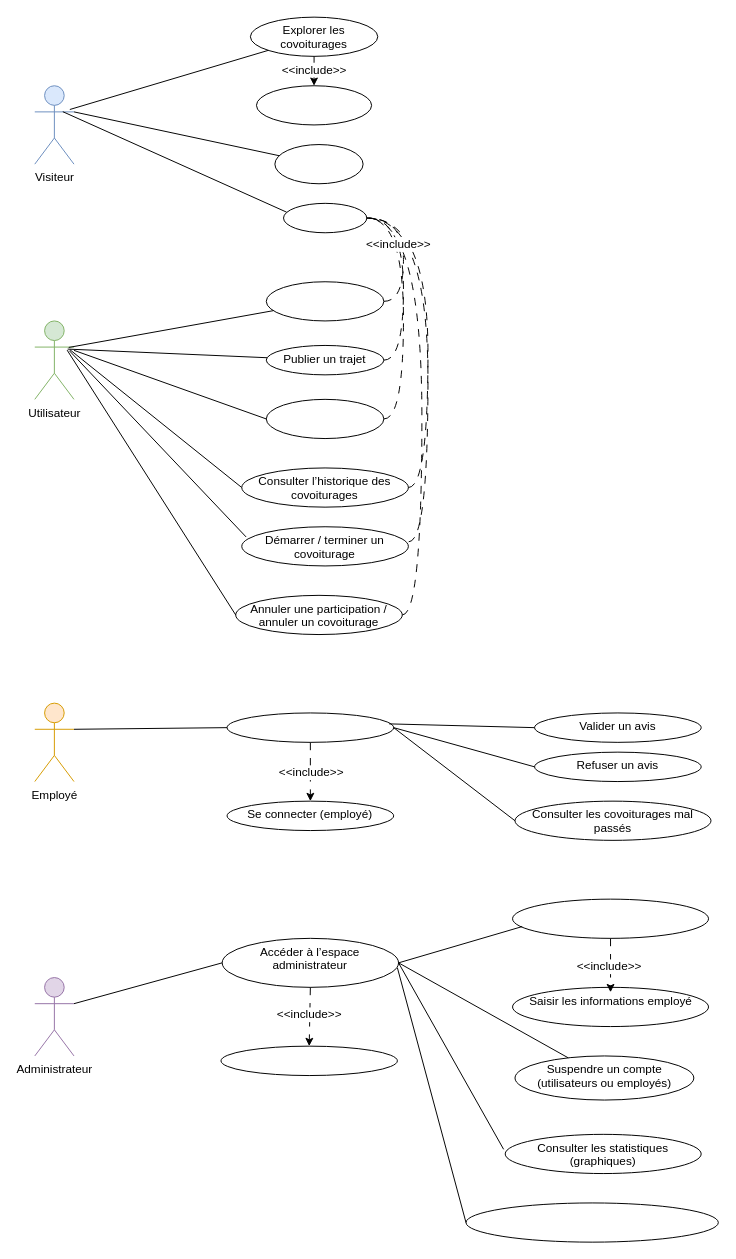
The diagram is 736 pixels wide and 1259 high, and some of its shapes have lost their labels. Each missing label, with the box of its shape:
Accéder à l’espace employé: (226, 712, 394, 742)
Créer un compte: (274, 144, 363, 184)
Créer un compte employé: (512, 898, 709, 938)
Gérer son profil et ses rôles: (265, 281, 384, 321)
Participer à un covoiturage: (265, 398, 384, 439)
Rechercher / filtrer des covoiturages: (255, 85, 372, 125)
Se connecter: (283, 202, 367, 233)
Se connecter (administrateur): (220, 1045, 397, 1076)
Voir le total des crédits gagnés par la plateforme: (465, 1202, 718, 1242)
